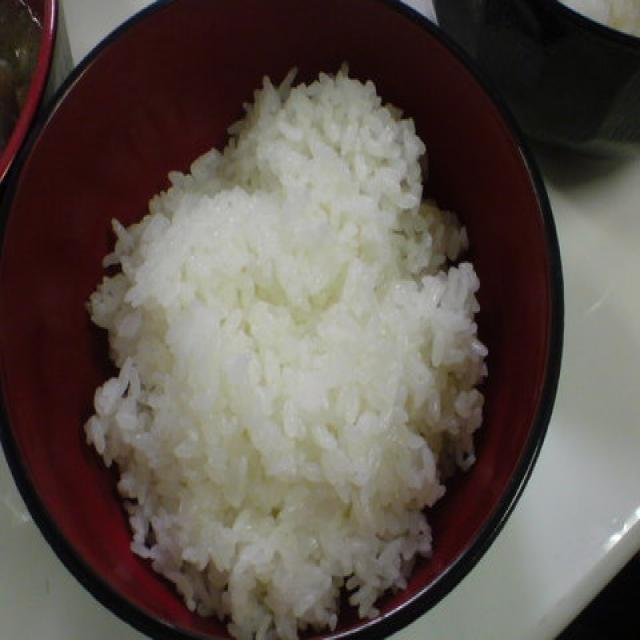rice: (87, 57, 488, 640)
